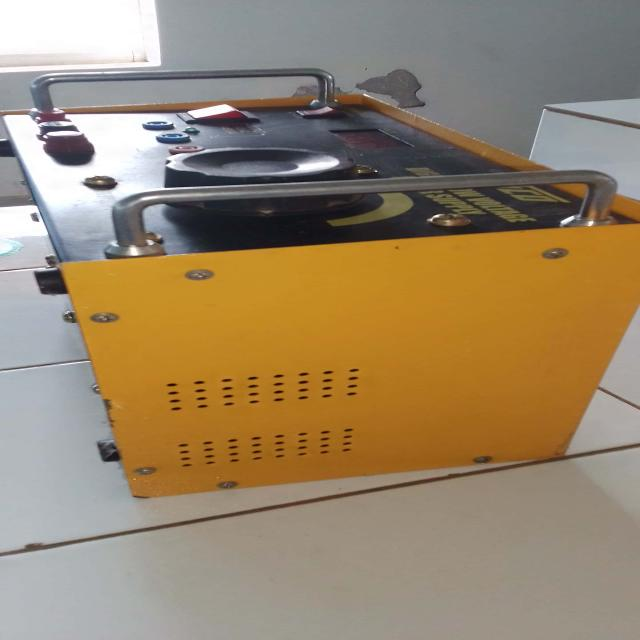Digital Power Supply: (5, 51, 637, 488)
